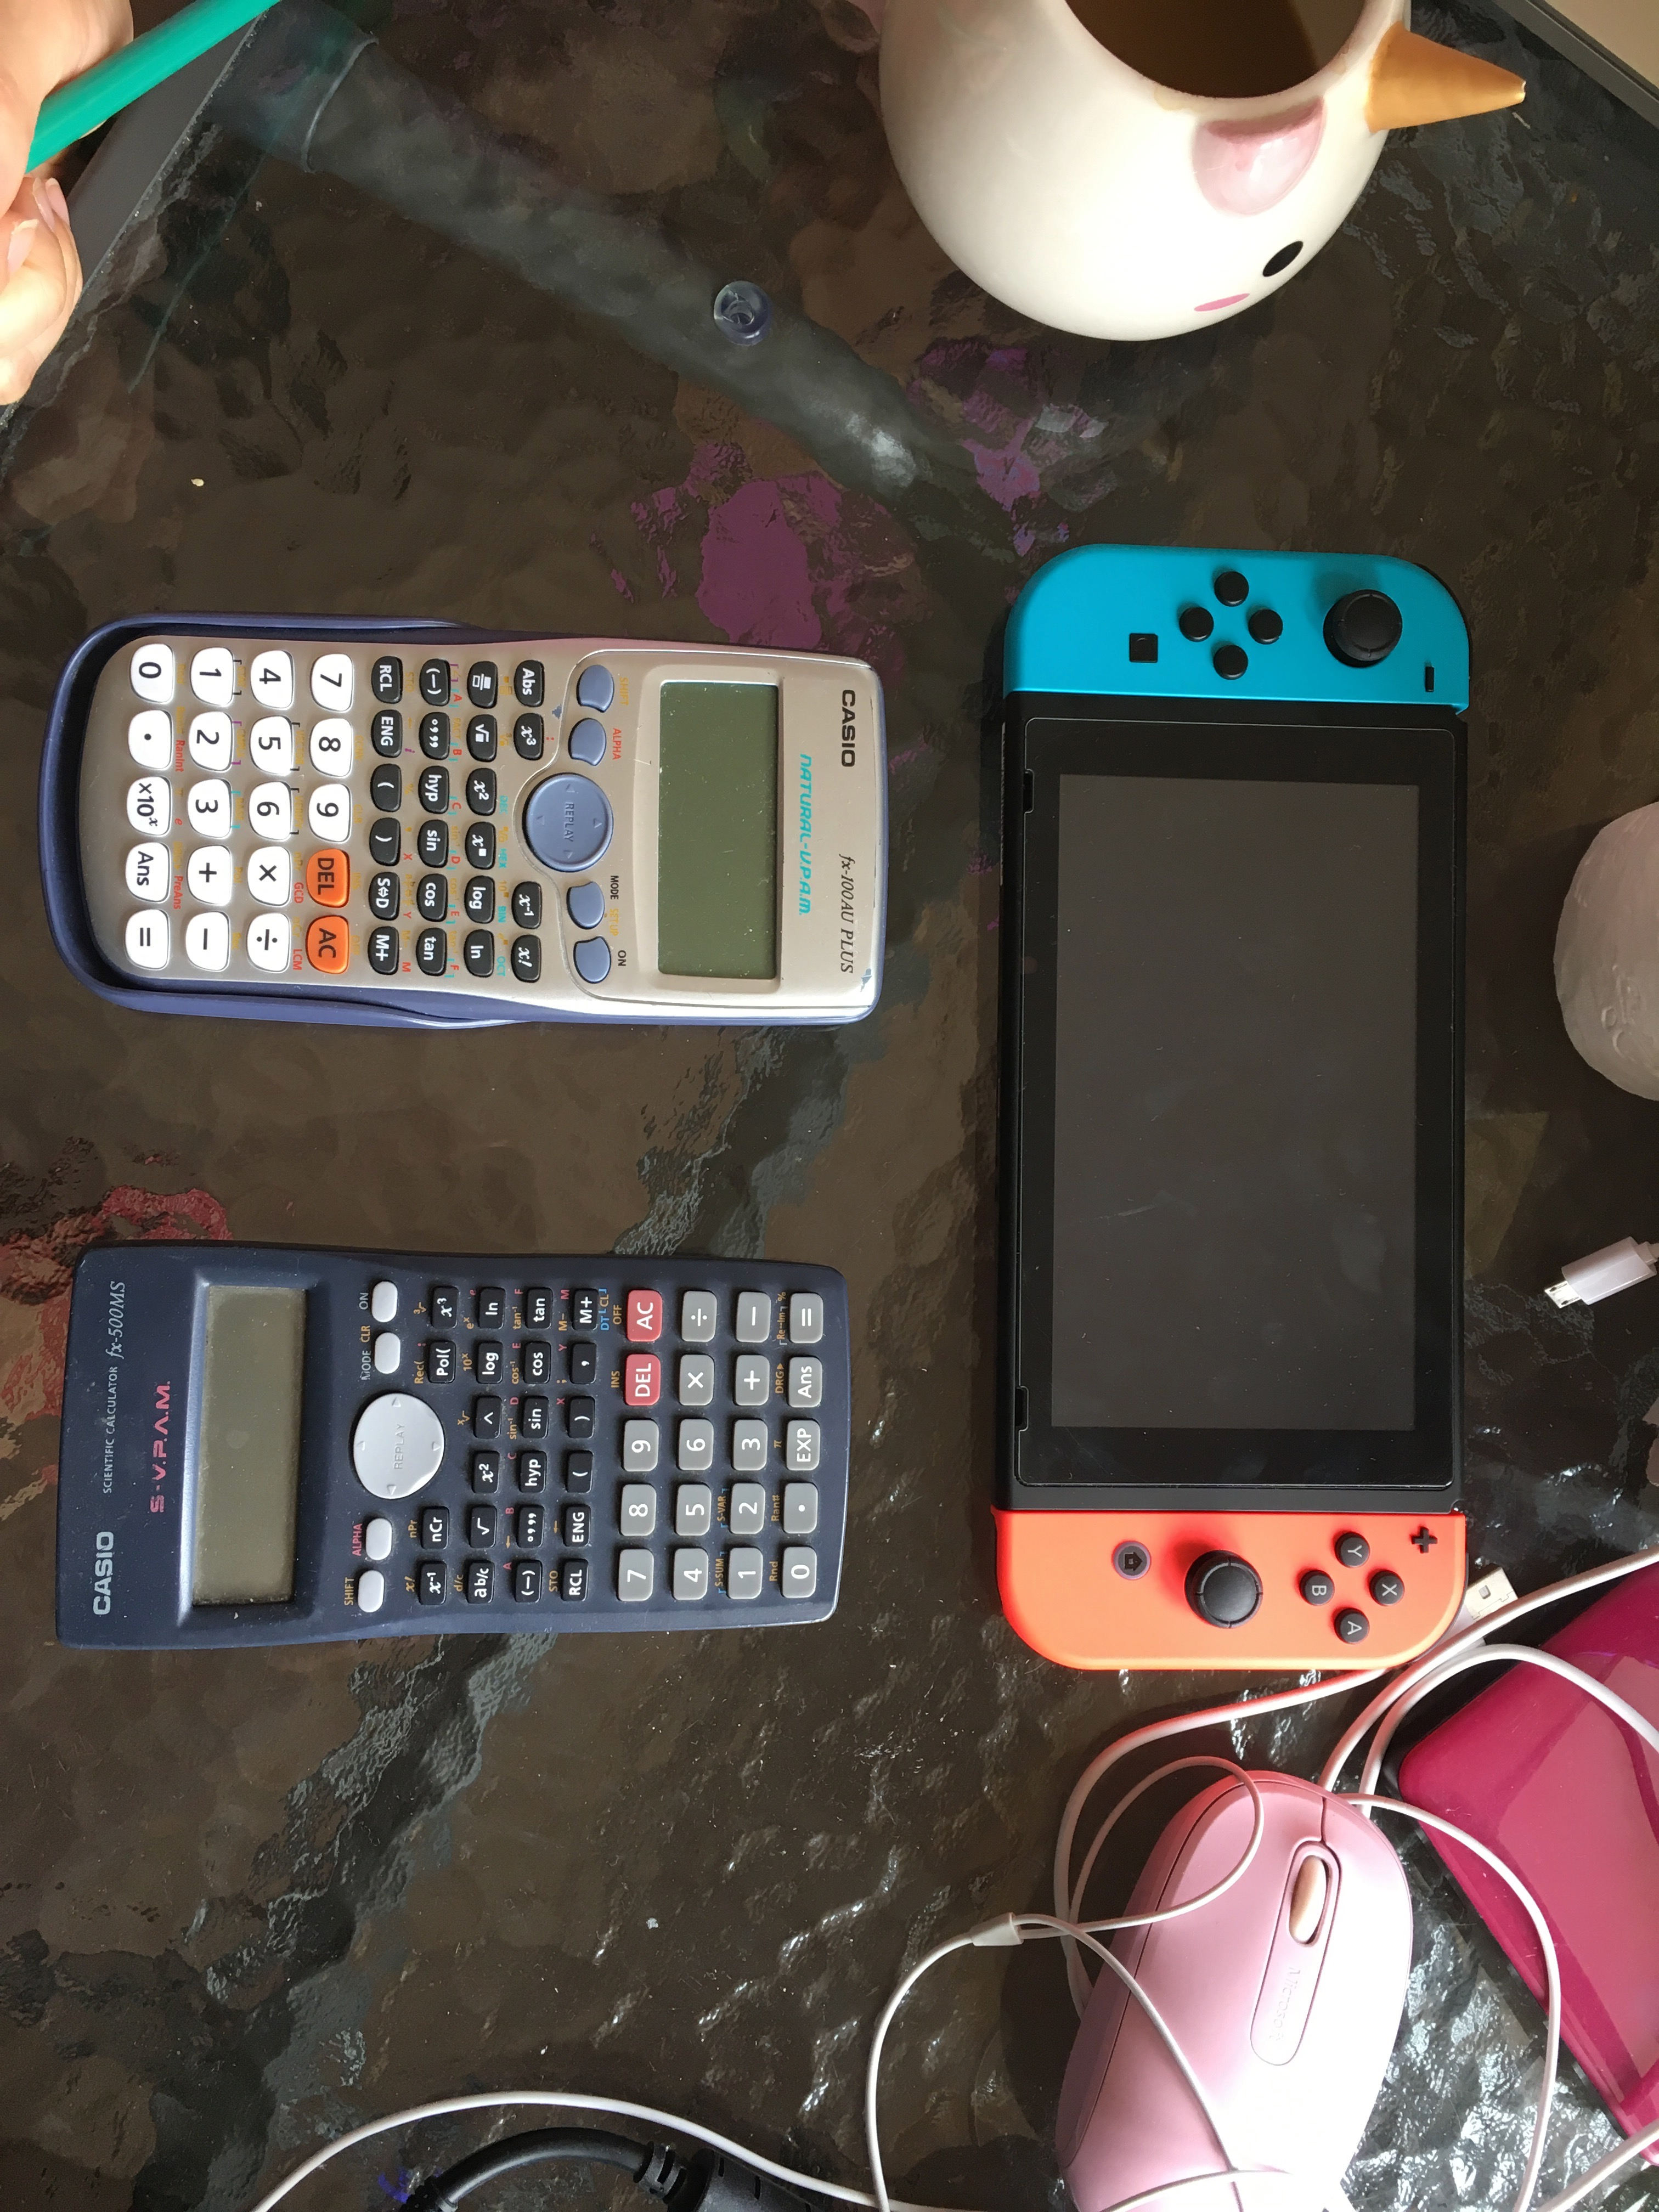Calculator: (30, 615, 901, 1045), (35, 1231, 864, 1658)
NintendoSwitch: (955, 540, 1492, 1677)
